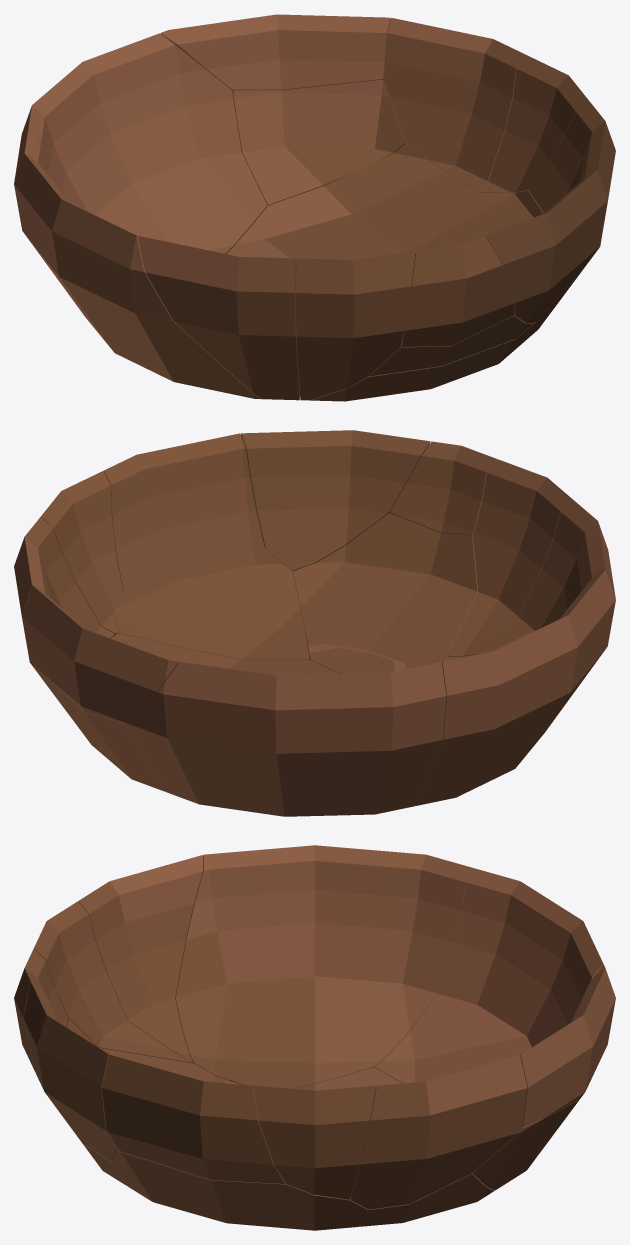
The model's file is fractured_simple_bowl.glb.
3 renders of one model, top to bottom at view 1: azimuth 30°, elevation 25°; view 2: azimuth 150°, elevation 25°; view 3: azimuth 270°, elevation 25°, orthographic.
Parts seen in each view (by area): view 1: Bow_cell; view 2: Bow_cell; view 3: Bow_cell.
Boxes of the visible parts, left/top/right/bottom form: Bow_cell: left=14, top=14, right=615, bottom=401; Bow_cell: left=14, top=430, right=615, bottom=816; Bow_cell: left=14, top=845, right=615, bottom=1230.
Size of the model in its own units: 0.25 by 0.0759 by 0.25.
